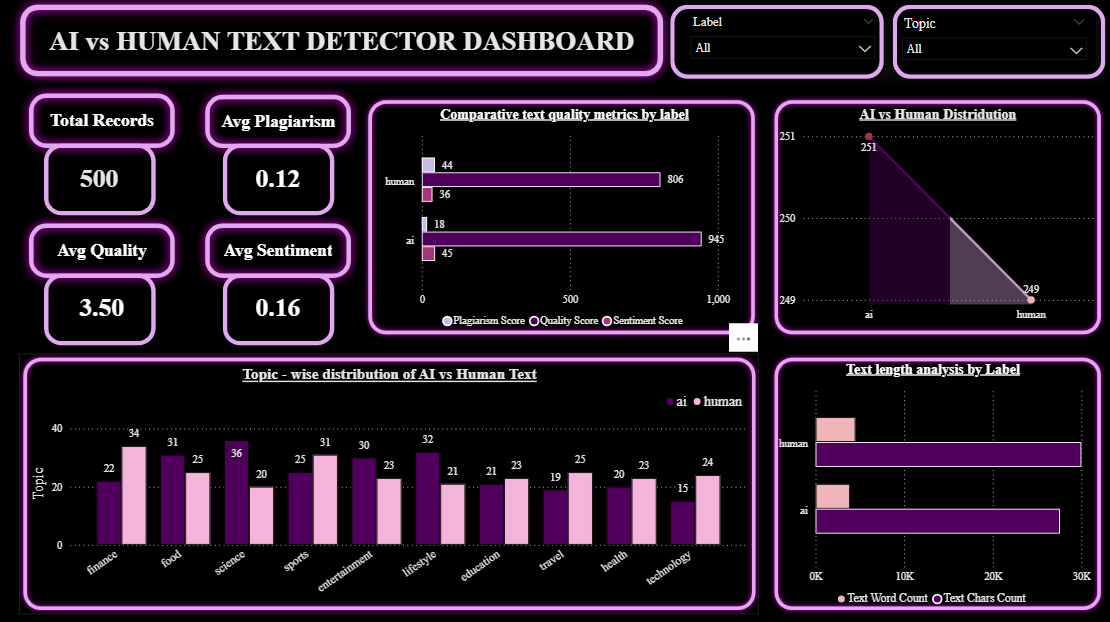

The page's visual inventory and layout, read from the dashboard file:
{"tool":"powerbi","page":{"name":"Page 1","canvas":[1280,720],"ordinal":0},"visuals":[{"type":"card","fields":{"Values":["ai_vs_human_dataset_medium.Total Records"]},"box":[66.3,170.6,109.2,76.1],"z":0},{"type":"card","fields":{"Values":["ai_vs_human_dataset_medium.Avg Plagiarism"]},"box":[269.9,170.6,109.2,76.1],"z":1000},{"type":"card","fields":{"Values":["ai_vs_human_dataset_medium.Avg Quality"]},"box":[68.7,316.6,109.2,76.1],"z":2000},{"type":"card","title":"Avg Sentiment","fields":{"Values":["ai_vs_human_dataset_medium.Avg Sentiment"]},"box":[269.9,316.6,109.2,76.1],"z":3000},{"type":"slicer","fields":{"Values":["ai_vs_human_dataset_medium.label"]},"box":[785.3,17.2,231.9,69.9],"z":4000},{"type":"slicer","fields":{"Values":["ai_vs_human_dataset_medium.topic"]},"box":[1027,17.2,231.9,69.9],"z":5000},{"type":"areaChart","title":"AI vs Human Distridution","fields":{"Category":["ai_vs_human_dataset_medium.label"],"Y":["CountNonNull(ai_vs_human_dataset_medium.label)"]},"box":[893.3,126.4,371.8,252.8],"z":6000},{"type":"clusteredColumnChart","title":"Topic - wise distribution of AI vs Human Text","fields":{"Category":["ai_vs_human_dataset_medium.topic"],"Y":["CountNonNull(ai_vs_human_dataset_medium.topic)"],"Series":["ai_vs_human_dataset_medium.label"]},"box":[39.3,423.3,827,278.5],"z":7000},{"type":"clusteredBarChart","title":"Comparative text quality metrics by label","fields":{"Category":["ai_vs_human_dataset_medium.label"],"Y":["Sum(ai_vs_human_dataset_medium.plagiarism_score)","Sum(ai_vs_human_dataset_medium.quality_score)","Sum(ai_vs_human_dataset_medium.sentiment)"]},"box":[436.8,126.4,429.5,263.8],"z":8000},{"type":"clusteredBarChart","title":"Text length analysis by Label","fields":{"Y":["Sum(ai_vs_human_dataset_medium.length_words)","Sum(ai_vs_human_dataset_medium.length_chars)"],"Category":["ai_vs_human_dataset_medium.label"]},"box":[887.1,417.2,371.8,290.8],"z":9000},{"type":"shape","box":[19.6,0,754.6,101.8],"z":10000},{"type":"shape","box":[773,9.8,244.2,84.7],"z":11000},{"type":"shape","box":[1027,9.8,242.9,84.7],"z":12000},{"type":"shape","box":[29.4,101.8,186.5,82.2],"z":13000},{"type":"shape","box":[231.9,103.1,186.5,81],"z":14000},{"type":"shape","box":[29.4,250.3,186.5,82.2],"z":15000},{"type":"shape","box":[231.9,250.3,186.5,82.2],"z":16000},{"type":"shape","box":[261.4,168.1,127.6,82.2],"z":17000},{"type":"shape","box":[57.7,316.6,127.6,82.2],"z":18000},{"type":"shape","box":[57.7,168.1,127.6,82.2],"z":19000},{"type":"shape","box":[261.4,316.6,127.6,82.2],"z":20000},{"type":"shape","box":[423.3,115.3,451.5,277.3],"z":21000},{"type":"shape","box":[887.1,408.6,382.8,298.2],"z":22000},{"type":"shape","box":[28.2,408.6,846.6,298.2],"z":23000},{"type":"shape","box":[887.1,115.3,382.8,277.3],"z":24000}]}

Visuals, with their boxes in screenshot pixels (x1, y1, x2, y2), scaled from the page's 1280x720 canvas onto the 1110x622 screenshot:
card - ai_vs_human_dataset_medium.Total Records: [left=57, top=147, right=152, bottom=213]
card - ai_vs_human_dataset_medium.Avg Plagiarism: [left=234, top=147, right=329, bottom=213]
card - ai_vs_human_dataset_medium.Avg Quality: [left=60, top=274, right=154, bottom=339]
"Avg Sentiment" card: [left=234, top=274, right=329, bottom=339]
slicer - ai_vs_human_dataset_medium.label: [left=681, top=15, right=882, bottom=75]
slicer - ai_vs_human_dataset_medium.topic: [left=891, top=15, right=1092, bottom=75]
"AI vs Human Distridution" areaChart: [left=775, top=109, right=1097, bottom=328]
"Topic - wise distribution of AI vs Human Text" clusteredColumnChart: [left=34, top=366, right=751, bottom=606]
"Comparative text quality metrics by label" clusteredBarChart: [left=379, top=109, right=751, bottom=337]
"Text length analysis by Label" clusteredBarChart: [left=769, top=360, right=1092, bottom=612]
shape: [left=17, top=0, right=671, bottom=88]
shape: [left=670, top=8, right=882, bottom=82]
shape: [left=891, top=8, right=1101, bottom=82]
shape: [left=25, top=88, right=187, bottom=159]
shape: [left=201, top=89, right=363, bottom=159]
shape: [left=25, top=216, right=187, bottom=287]
shape: [left=201, top=216, right=363, bottom=287]
shape: [left=227, top=145, right=337, bottom=216]
shape: [left=50, top=274, right=161, bottom=345]
shape: [left=50, top=145, right=161, bottom=216]
shape: [left=227, top=274, right=337, bottom=345]
shape: [left=367, top=100, right=759, bottom=339]
shape: [left=769, top=353, right=1101, bottom=611]
shape: [left=24, top=353, right=759, bottom=611]
shape: [left=769, top=100, right=1101, bottom=339]
